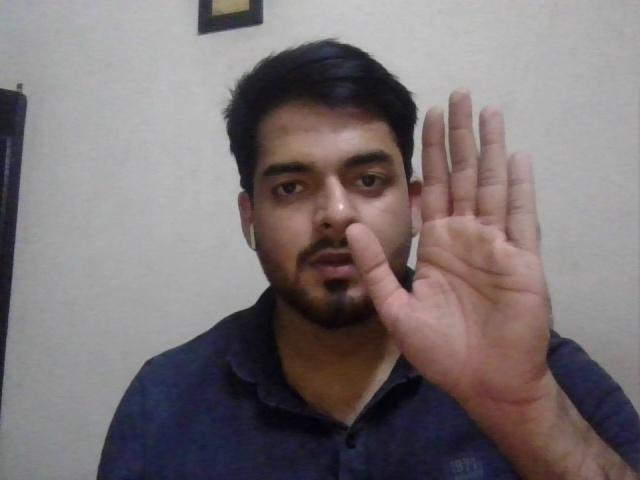hello: (349, 86, 558, 373)
